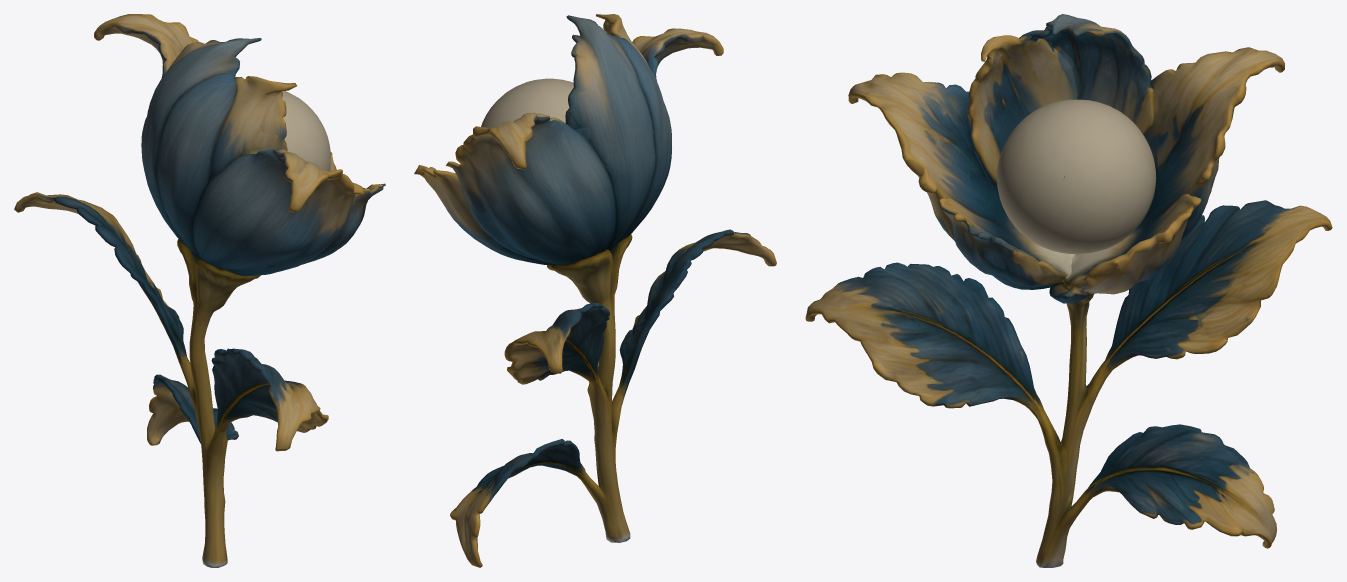
The model's file is ornamental+flower+3d+model+1k.glb.
The picture shows the model from 3 angles, left to right: view 1: azimuth 30°, elevation 25°; view 2: azimuth 150°, elevation 25°; view 3: azimuth 270°, elevation 25°; orthographic projection. The views are drawn at different scales.
Parts seen in each view (by area): view 1: tripo_part_11, tripo_part_5, tripo_part_10, tripo_part_0, tripo_part_7, tripo_part_9, tripo_part_1, tripo_part_2, tripo_part_3, tripo_part_4, tripo_part_8; view 2: tripo_part_2, tripo_part_7, tripo_part_5, tripo_part_1, tripo_part_0, tripo_part_3, tripo_part_4, tripo_part_10, tripo_part_11, tripo_part_6, tripo_part_9; view 3: tripo_part_0, tripo_part_4, tripo_part_1, tripo_part_3, tripo_part_2, tripo_part_11, tripo_part_9, tripo_part_7, tripo_part_5, tripo_part_6, tripo_part_8.
Boxes of the visible parts, <box> form: tripo_part_11: <box>193,148,364,276</box>; tripo_part_5: <box>177,239,260,567</box>; tripo_part_10: <box>156,71,237,256</box>; tripo_part_0: <box>211,348,328,451</box>; tripo_part_7: <box>143,38,261,241</box>; tripo_part_9: <box>210,74,296,179</box>; tripo_part_1: <box>14,192,187,369</box>; tripo_part_2: <box>94,14,198,243</box>; tripo_part_3: <box>147,374,238,445</box>; tripo_part_4: <box>282,91,330,171</box>; tripo_part_8: <box>303,183,385,264</box>; tripo_part_2: <box>446,112,623,265</box>; tripo_part_7: <box>565,15,656,235</box>; tripo_part_5: <box>546,234,632,542</box>; tripo_part_1: <box>504,302,610,388</box>; tripo_part_0: <box>616,229,776,404</box>; tripo_part_3: <box>450,439,592,567</box>; tripo_part_4: <box>481,78,573,127</box>; tripo_part_10: <box>614,37,668,246</box>; tripo_part_11: <box>624,28,723,238</box>; tripo_part_6: <box>414,165,549,264</box>; tripo_part_9: <box>596,14,648,65</box>; tripo_part_0: <box>805,262,1043,420</box>; tripo_part_4: <box>997,99,1156,253</box>; tripo_part_1: <box>1102,200,1332,374</box>; tripo_part_3: <box>1078,424,1276,548</box>; tripo_part_2: <box>1140,47,1284,241</box>; tripo_part_11: <box>848,72,1020,240</box>; tripo_part_9: <box>967,35,1077,186</box>; tripo_part_7: <box>1029,14,1154,135</box>; tripo_part_5: <box>1034,293,1111,567</box>; tripo_part_6: <box>1049,194,1201,303</box>; tripo_part_8: <box>938,197,1072,289</box>.
Bounding box in the file's own units: 0.4525 × 1 × 0.8553.
Materials: 12 (12 with a texture image).
